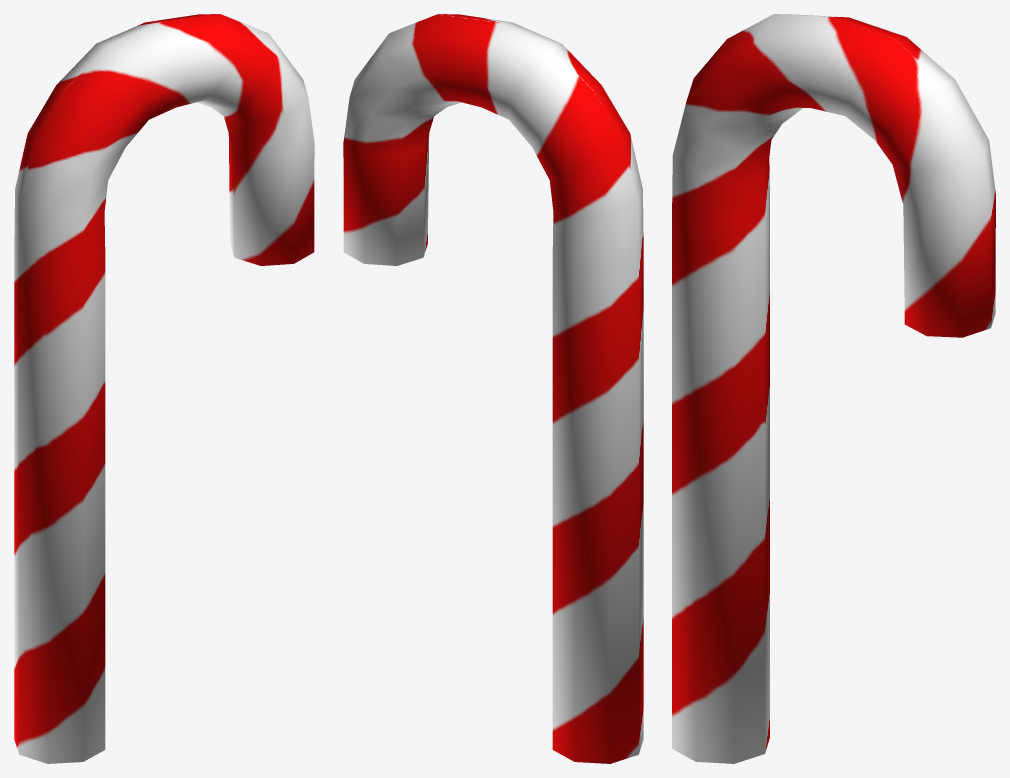
The model's file is candy6.FBX.
3 renders of one model, left to right at view 1: azimuth 30°, elevation 25°; view 2: azimuth 150°, elevation 25°; view 3: azimuth 330°, elevation 25°, orthographic. The views are drawn at different scales.
Parts seen in each view (by area): view 1: candy6; view 2: candy6; view 3: candy6.
Boxes of the visible parts, x1,y1,x2,y2 form: candy6: [14, 14, 314, 763]; candy6: [343, 14, 643, 763]; candy6: [672, 14, 995, 763].
Bounding box in the file's own units: 35.77 × 81.98 × 10.
